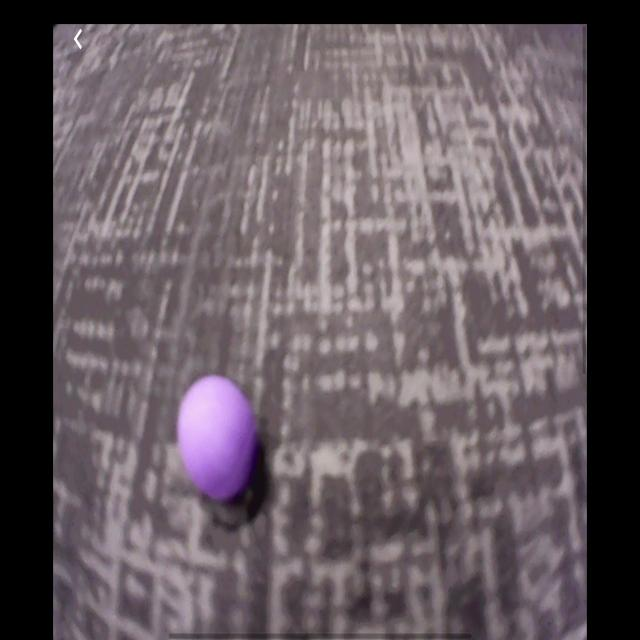ball: (179, 378, 254, 501)
